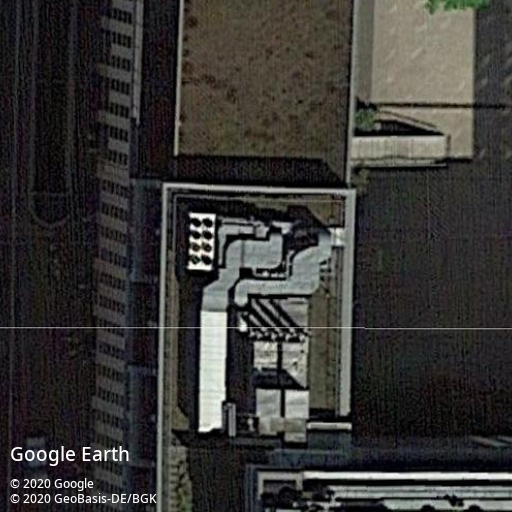Chiller: (186, 210, 217, 272)
